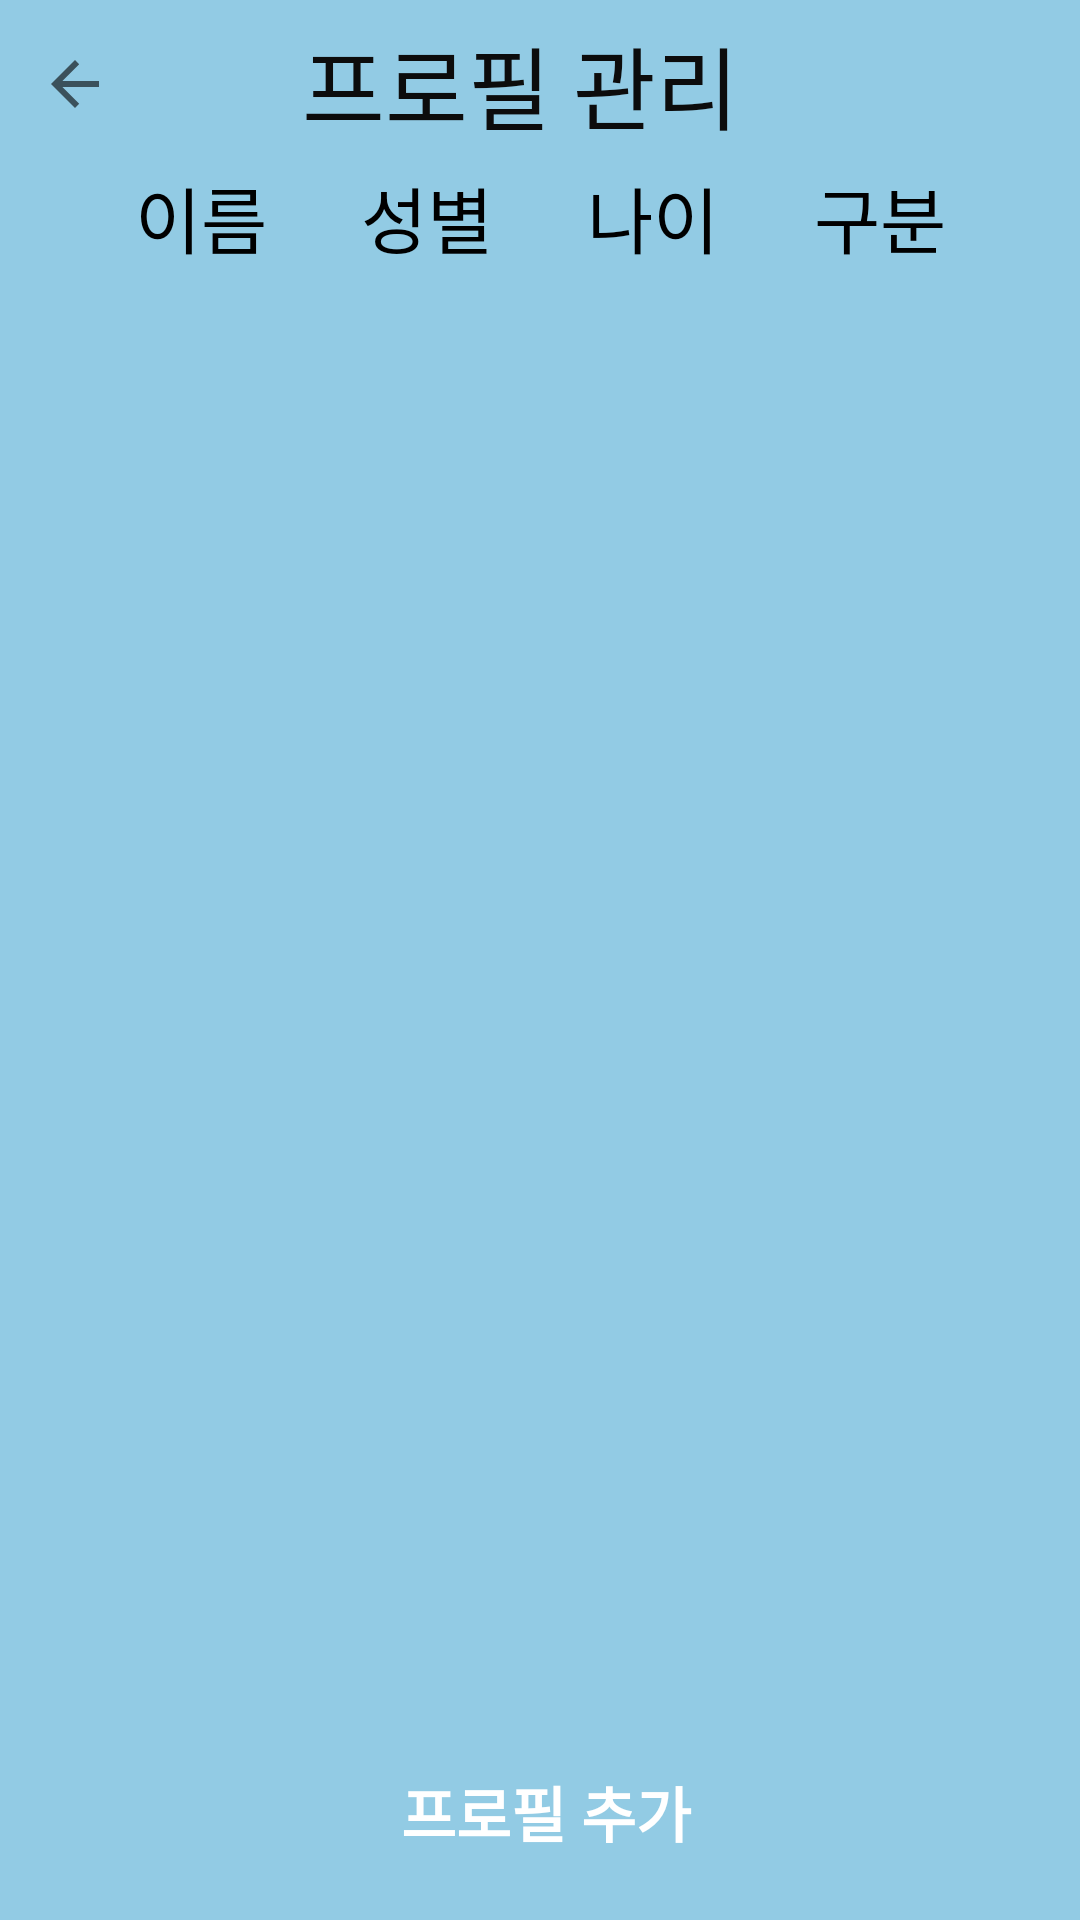

Screen size 1080 × 1920. Icon name, then its center in pixels as (x=x, y=y):
뒤로가기: (x=75, y=84)
